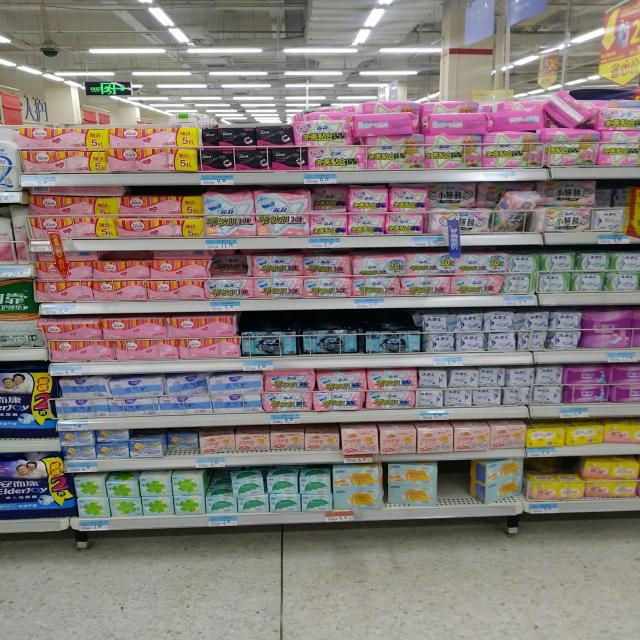empty: (433, 455, 471, 510)
